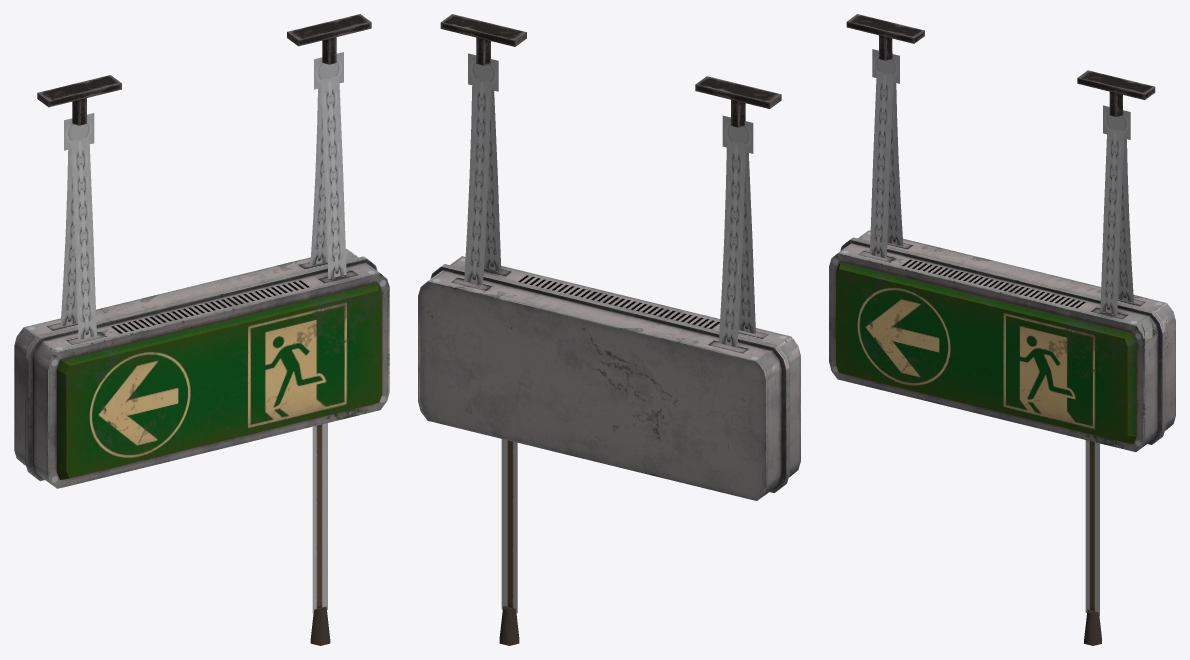
Rendered from acil-çıkış-asılı.fbx.
3 renders of one model, left to right at view 1: azimuth 30°, elevation 25°; view 2: azimuth 150°, elevation 25°; view 3: azimuth 330°, elevation 25°, orthographic. The views are drawn at different scales.
Parts seen in each view (by area): view 1: EmergencyExitLight; view 2: EmergencyExitLight; view 3: EmergencyExitLight.
Boxes of the visible parts, <box> form: EmergencyExitLight: <box>14,14,389,645</box>; EmergencyExitLight: <box>418,14,800,645</box>; EmergencyExitLight: <box>829,14,1175,645</box>.
Bounding box in the file's own units: 121 × 200 × 23.57.
Materials: 1 (1 with a texture image).
